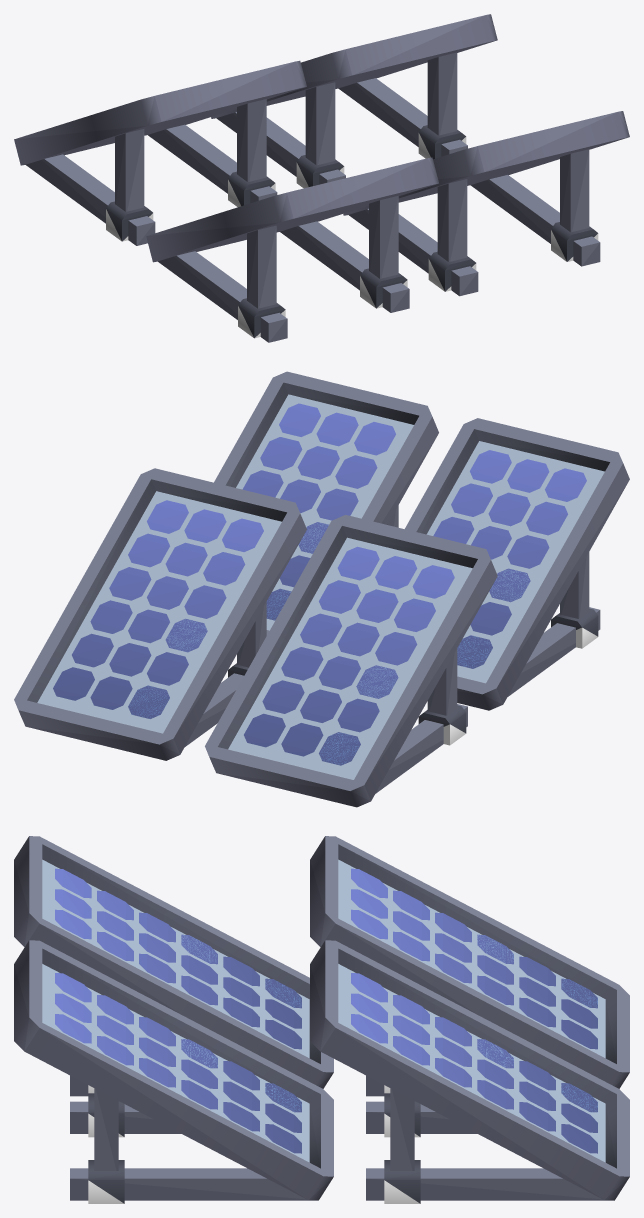
File: solar-panel-portrait-group.obj
3 views of the same model, one above another, from view 1: azimuth 30°, elevation 25°; view 2: azimuth 150°, elevation 25°; view 3: azimuth 270°, elevation 25° (orthographic). The views are drawn at different scales.
Size of the model in its own units: 0.9182 by 0.41 by 1.25.
